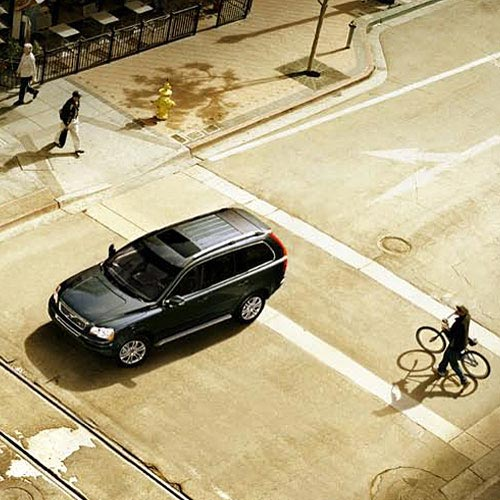car: (46, 208, 285, 364)
